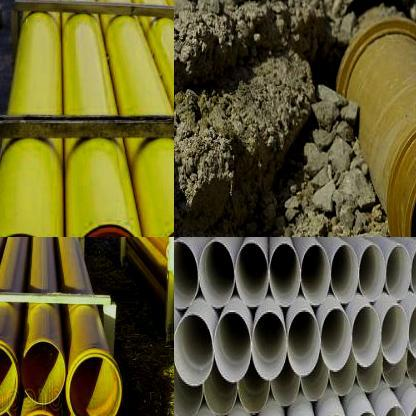pipe: (68, 354, 122, 416), (20, 340, 66, 404), (174, 313, 213, 385), (214, 312, 251, 382), (252, 312, 288, 382), (199, 240, 235, 308), (287, 309, 321, 377), (235, 242, 269, 308), (269, 243, 300, 308), (320, 308, 351, 371), (300, 243, 330, 305), (380, 304, 410, 364), (352, 305, 381, 367), (174, 240, 199, 310), (331, 244, 359, 304), (359, 244, 385, 302), (386, 244, 411, 300), (0, 343, 18, 416), (408, 301, 416, 360), (411, 244, 416, 296)
